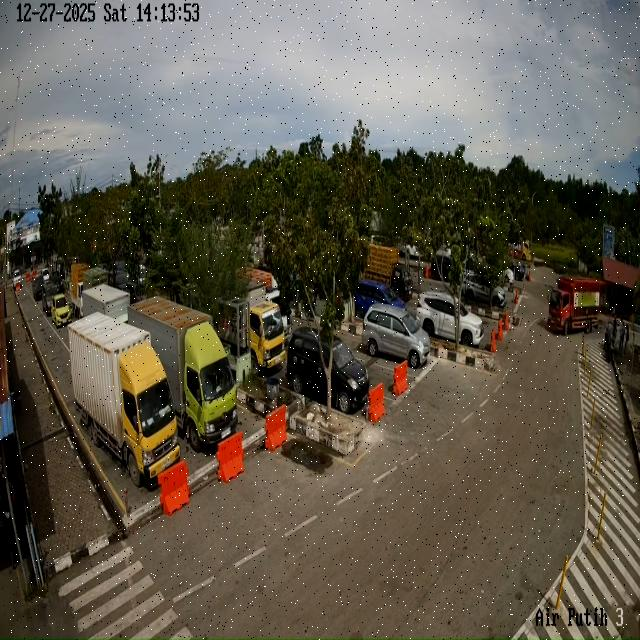Golongan IVA: (286, 327, 370, 413), (362, 304, 430, 369), (416, 292, 484, 347), (354, 280, 406, 319), (462, 271, 506, 309), (50, 293, 72, 328), (42, 280, 61, 316), (32, 274, 45, 301)
Golongan IVB: (364, 243, 413, 301)
Golongan VB: (68, 313, 180, 486), (128, 296, 238, 452), (218, 281, 286, 376), (547, 276, 603, 335)
